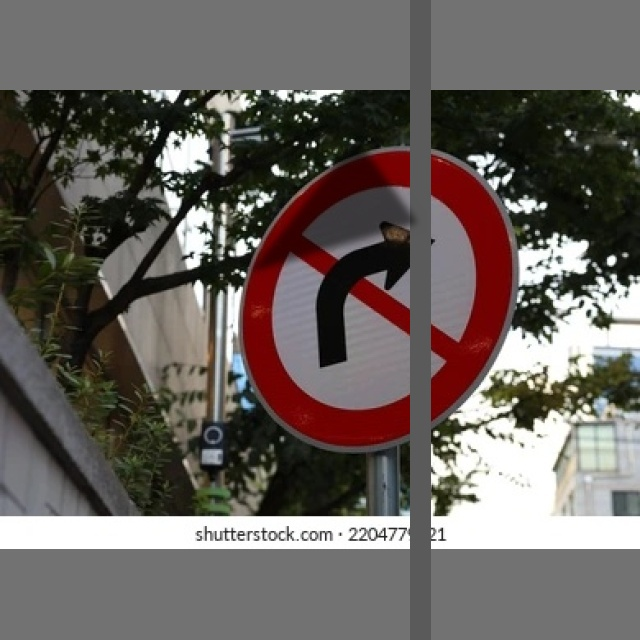Right_Turn_Prohibited: (236, 152, 520, 449)
